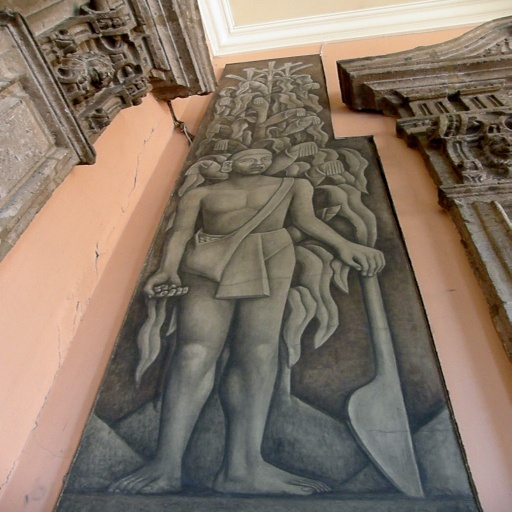hand: (334, 236, 387, 276), (139, 270, 191, 301)
